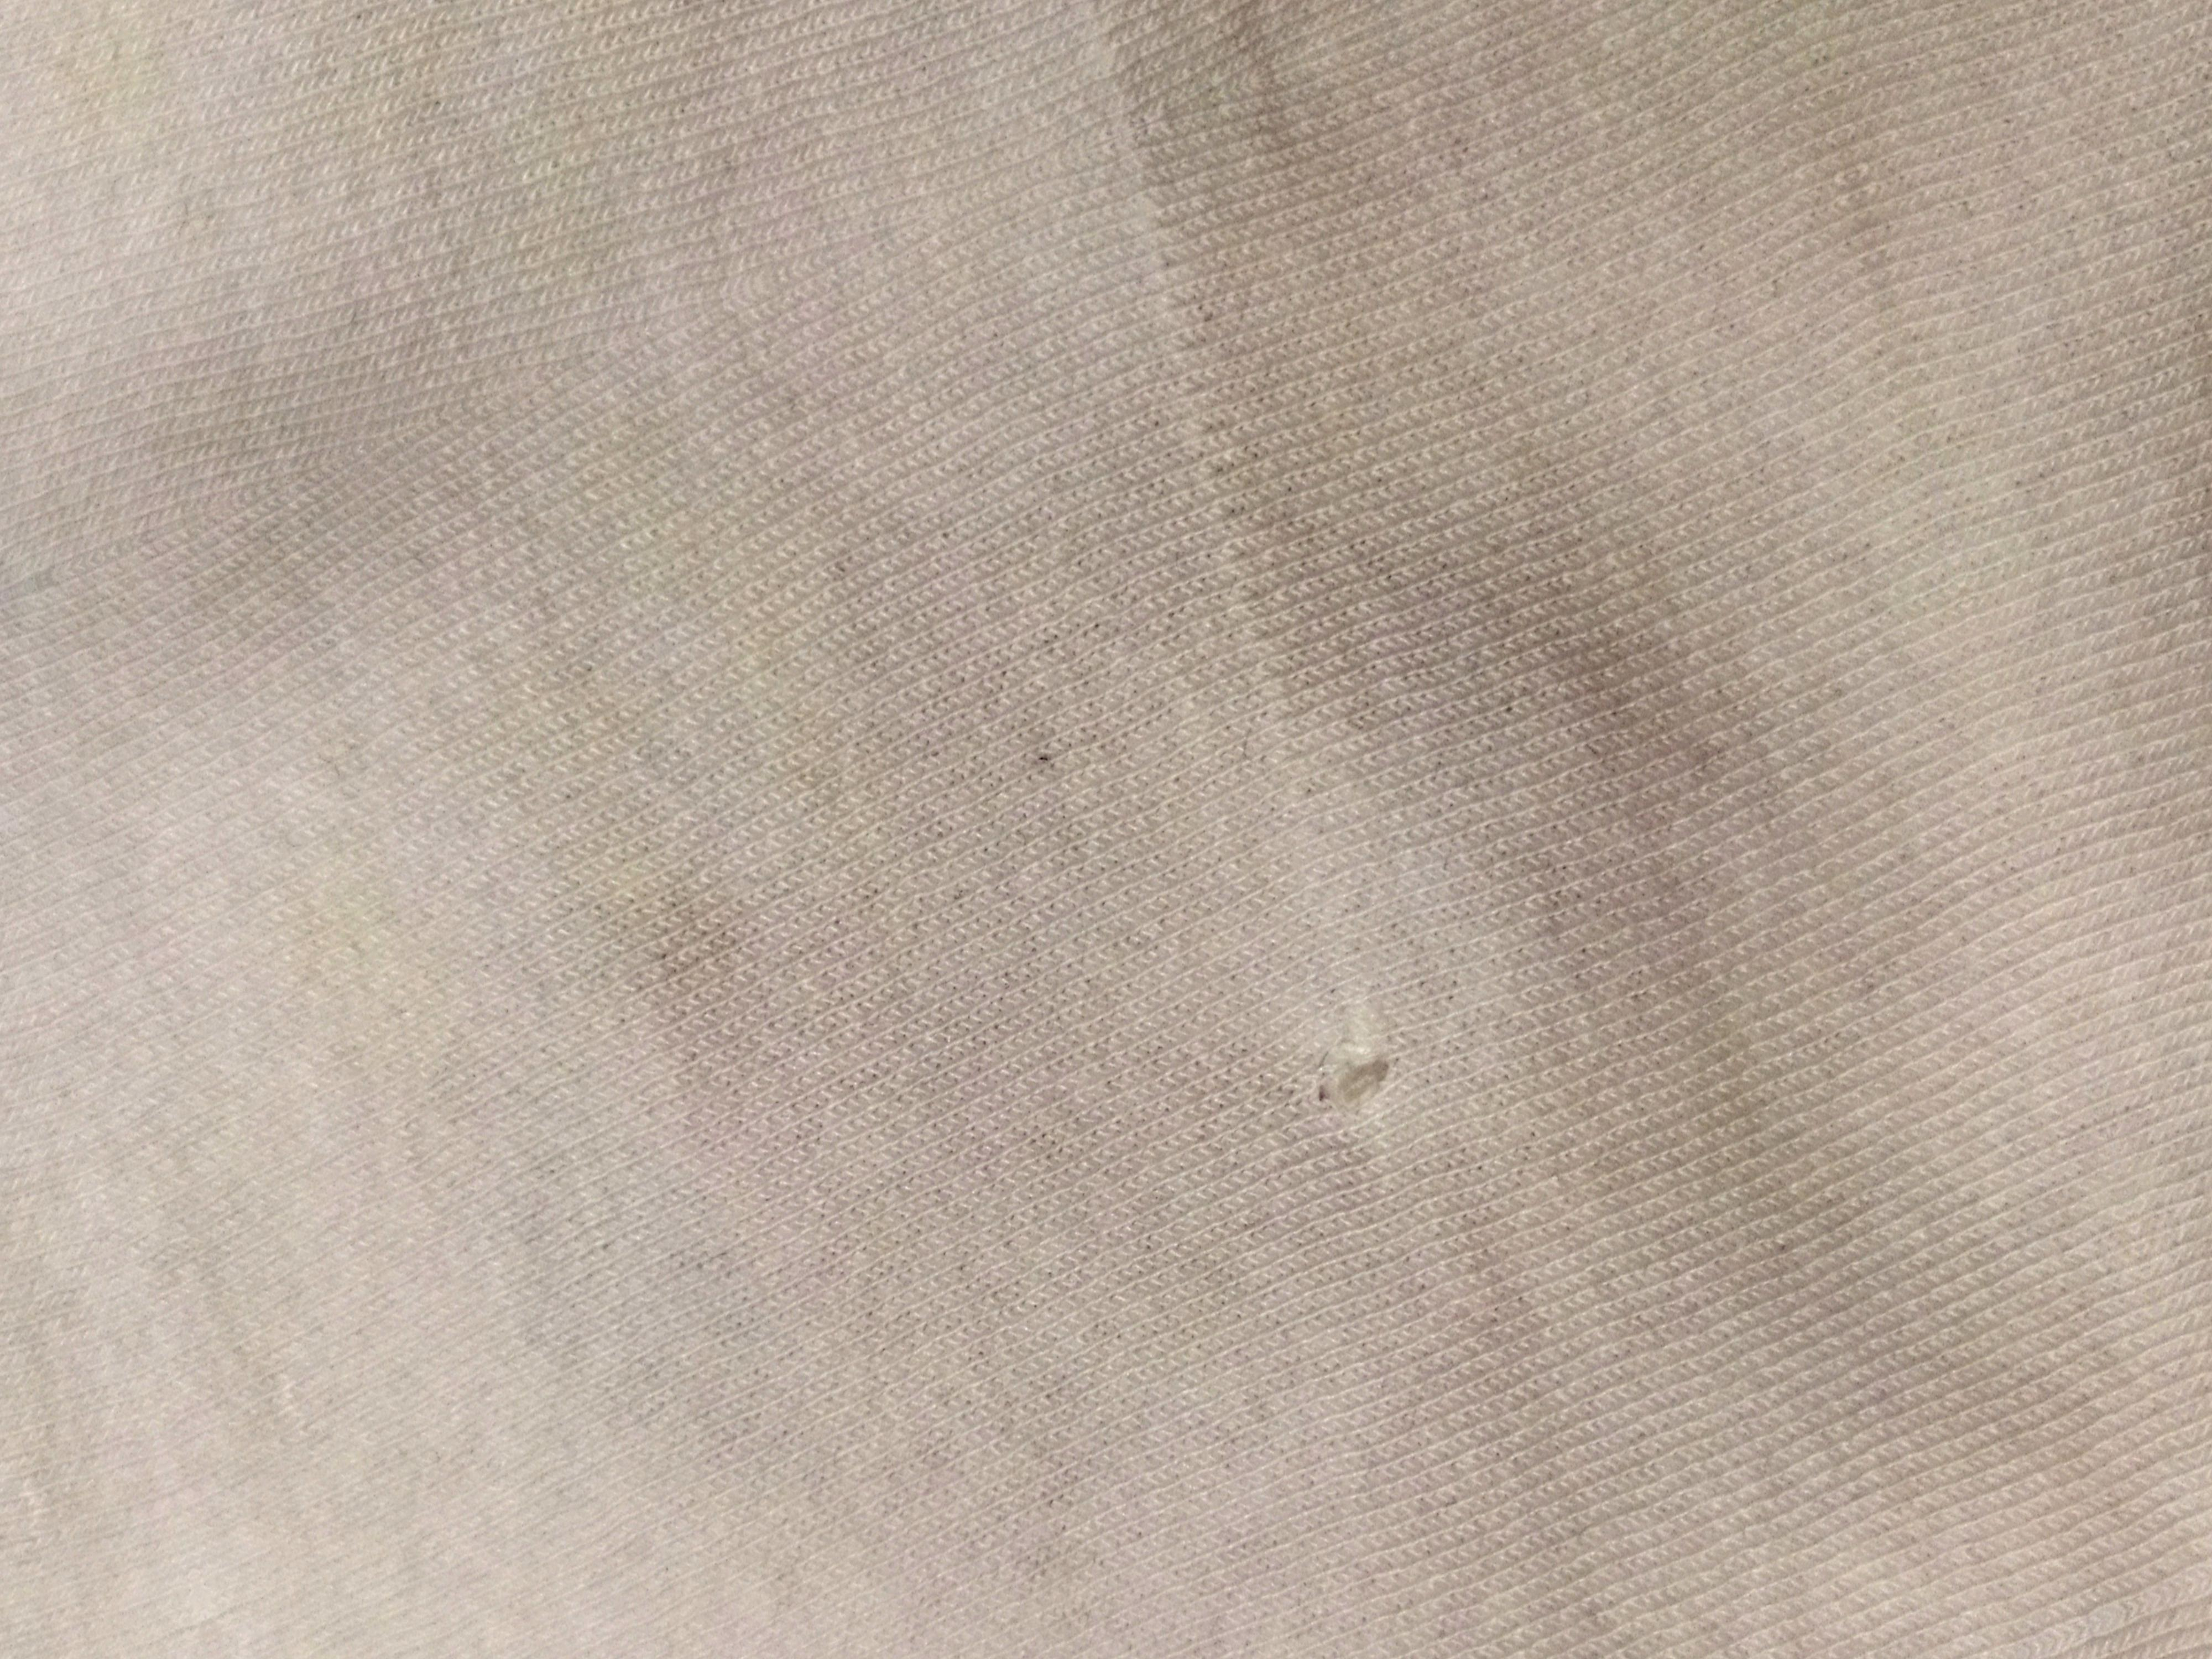knot: (1280, 1014, 1437, 1138)
